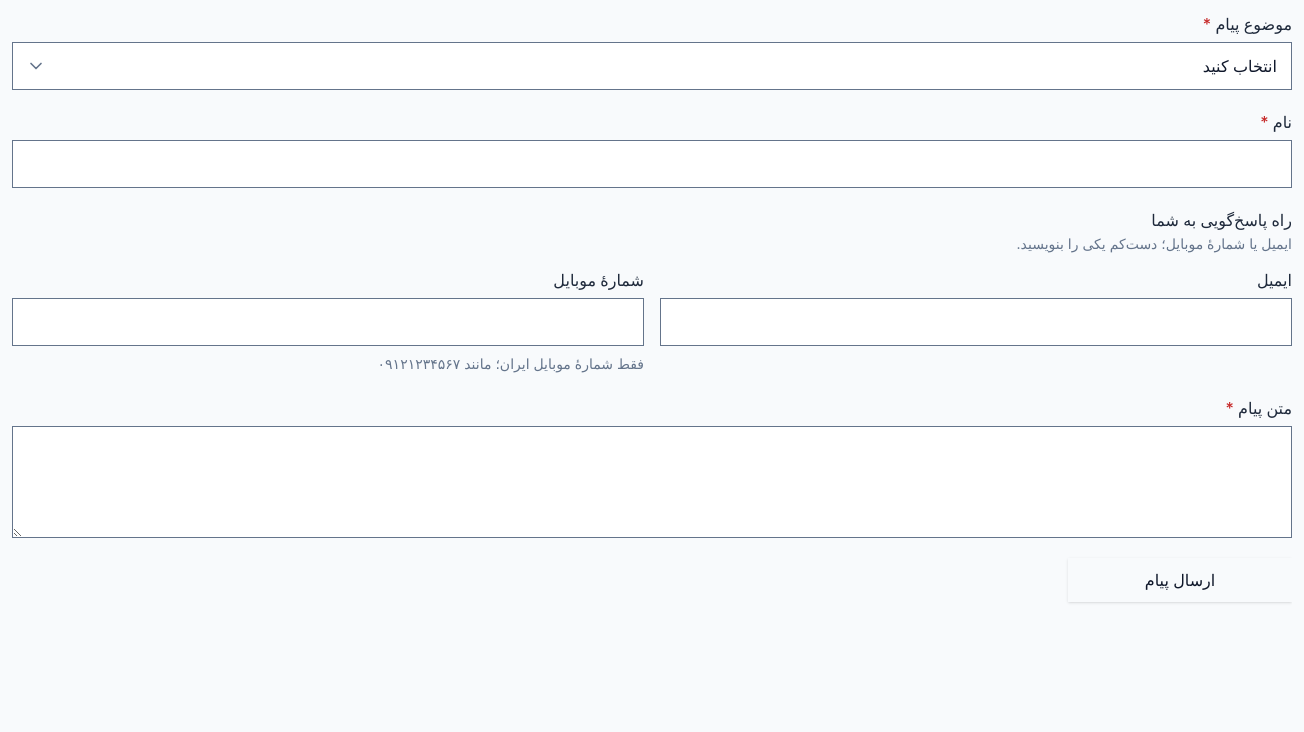
the API’s refusals, where they belong › contact_subject_required (attr null) under the subject, which takes the focus
Select "انتقاد و شکایت" in the dropdown labelled "موضوع پیام *": x=652, y=66 [12,42,1292,90]
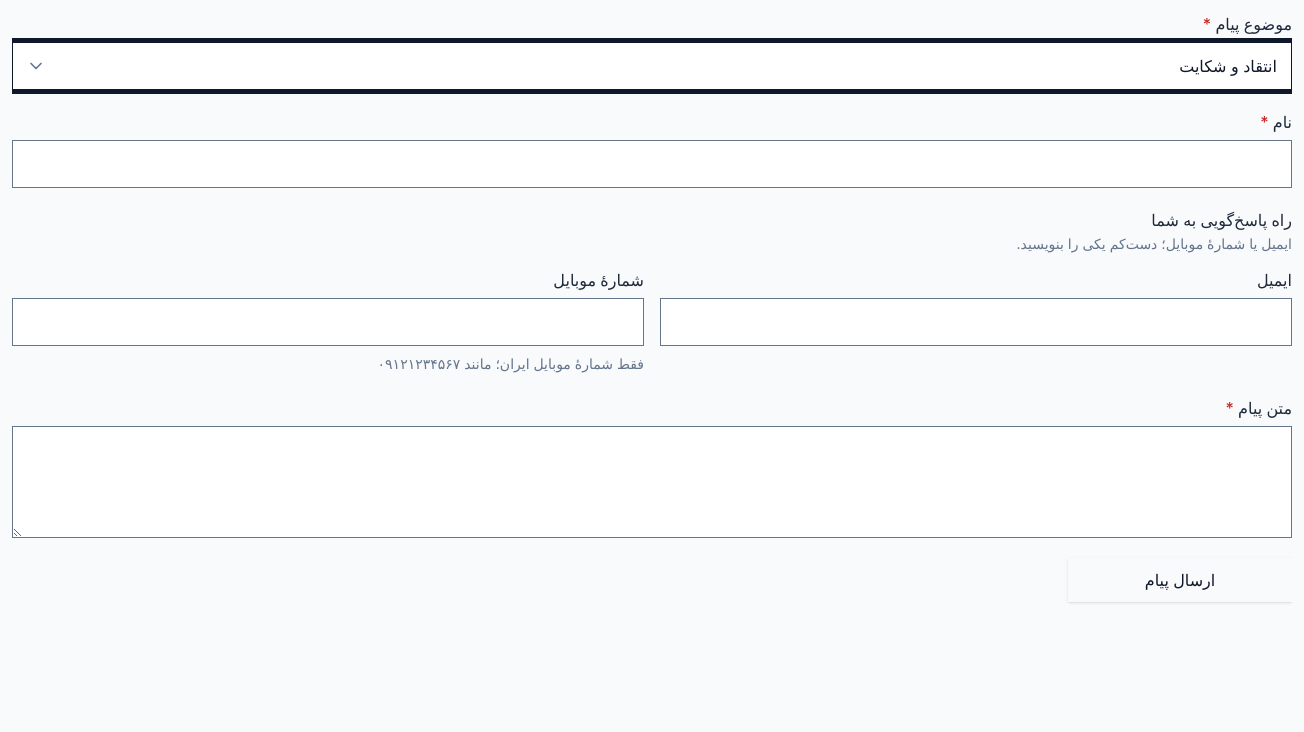
In the field labelled "نام *": x=652, y=164 [13,141,1291,187], type "سارا احمدی"
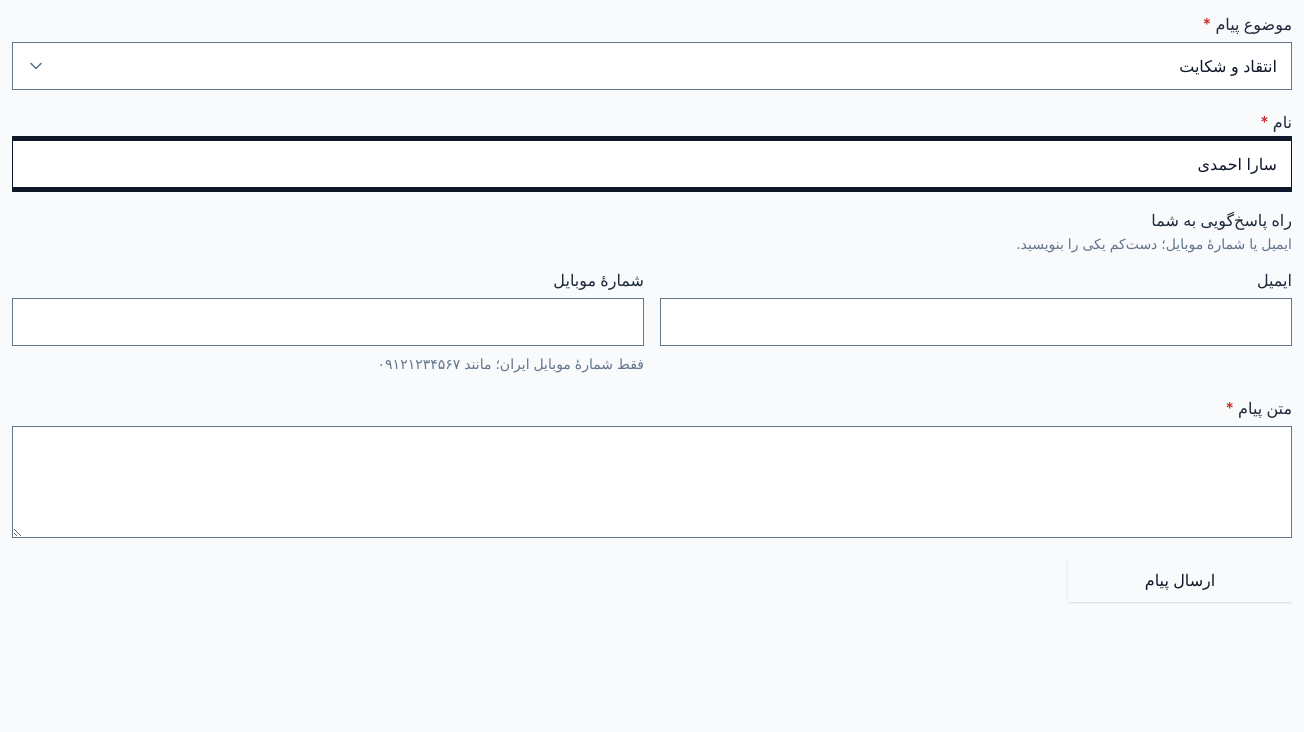
In the field labelled "شمارهٔ موبایل": x=328, y=322 [13,299,643,345], type "۰۹۱۲ ۱۲۳ ۴۵۶۷"
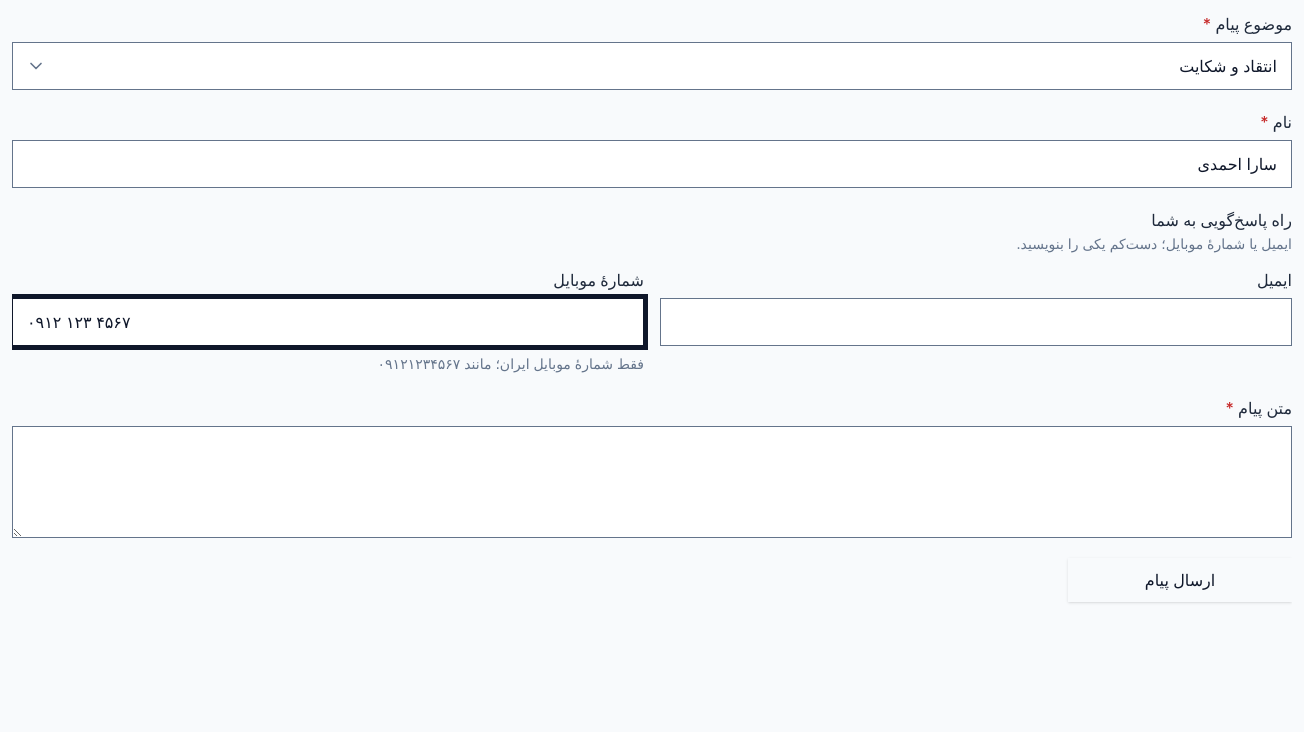
In the text box labelled "متن پیام *": x=652, y=482 [12,426,1292,538], type "سفارش ۸۴۹۲۳۷۰ هنوز نرسیده است."
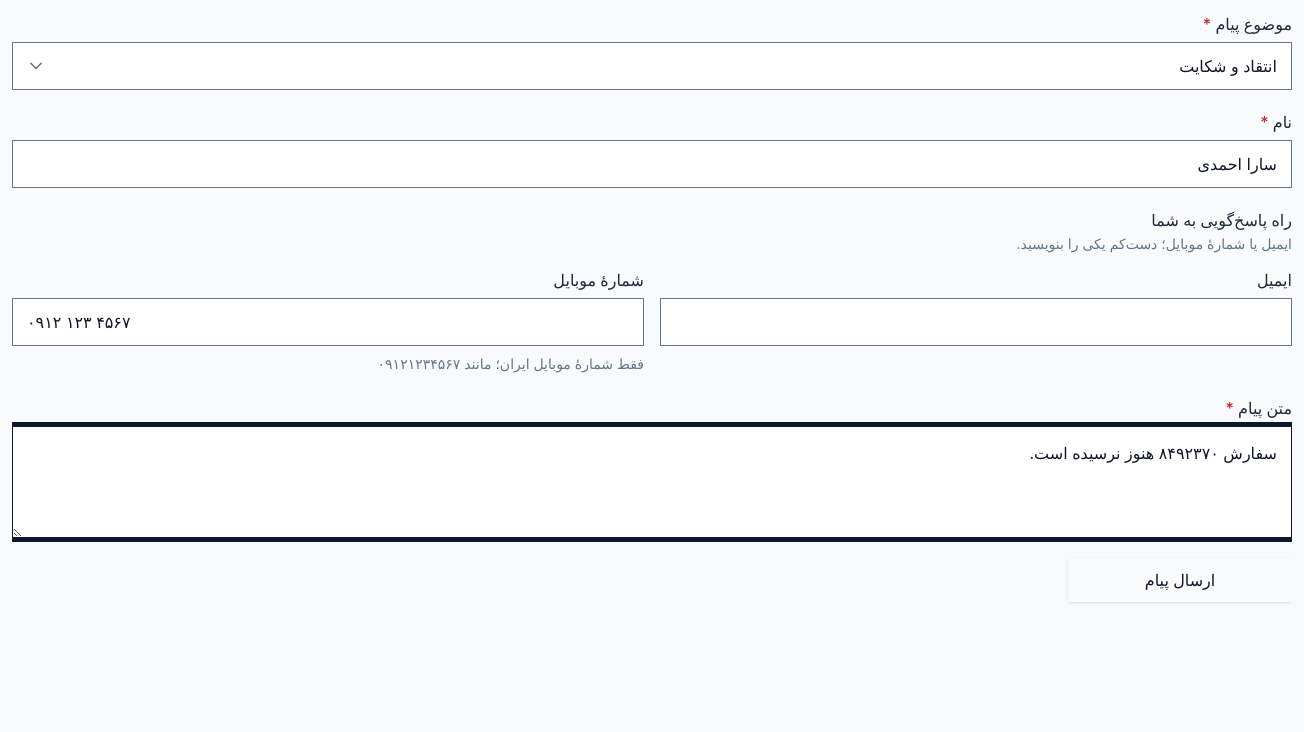
Click the button "ارسال پیام": x=1180, y=580 [1068,558,1292,602]
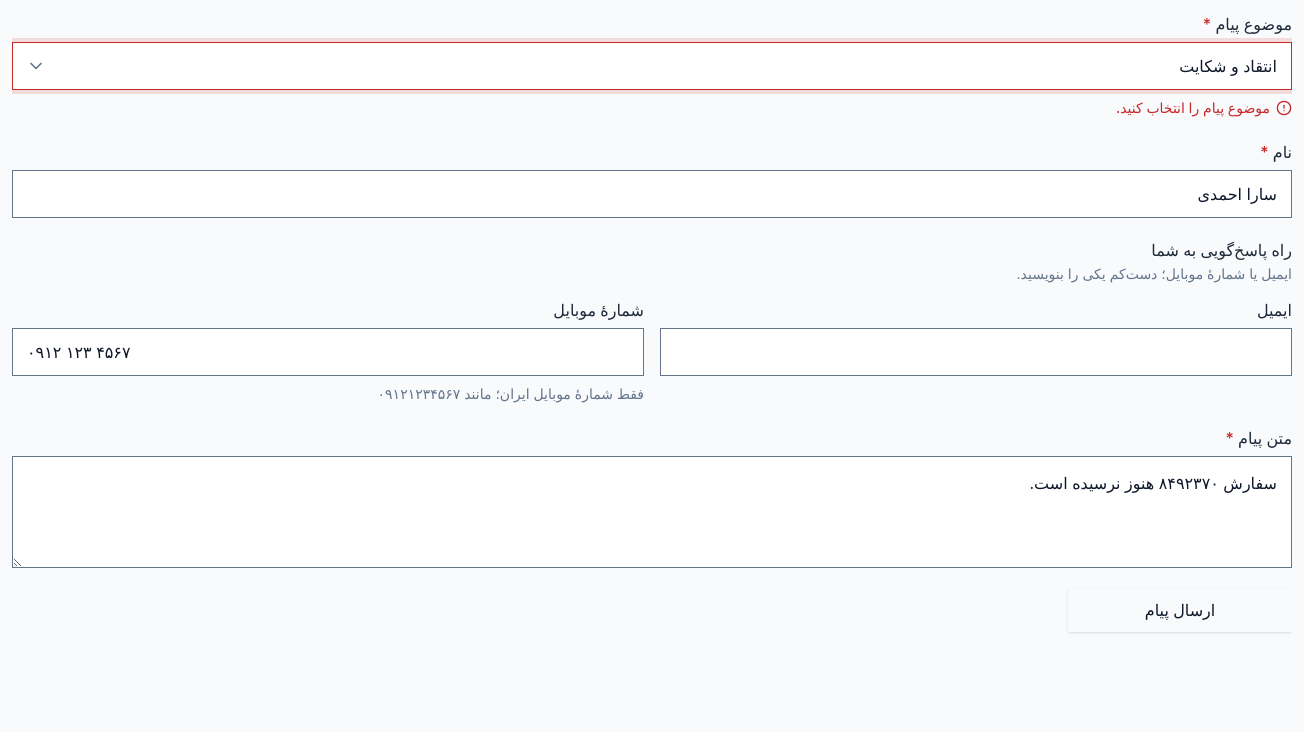
Check: the text "موضوع پیام را انتخاب کنید." is shown, box [1116,96,1270,120]
